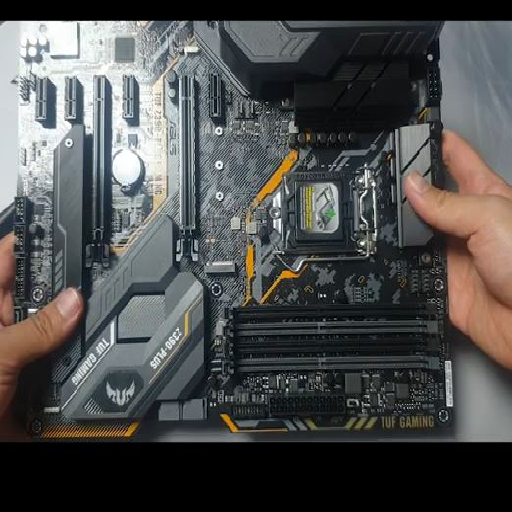CPU: (267, 171, 369, 257)
GPU: (172, 73, 201, 262), (87, 74, 112, 268)
MOTHERBOARD: (18, 20, 455, 441)
RAM: (220, 303, 442, 375)
SSD: (204, 262, 235, 275)
